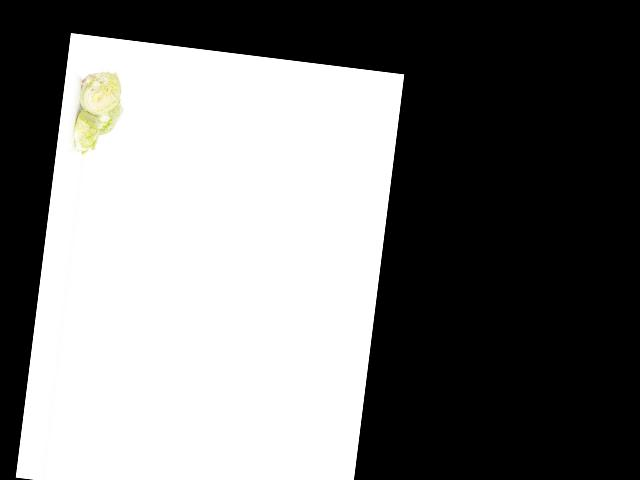lettuce: (90, 91, 126, 141)
